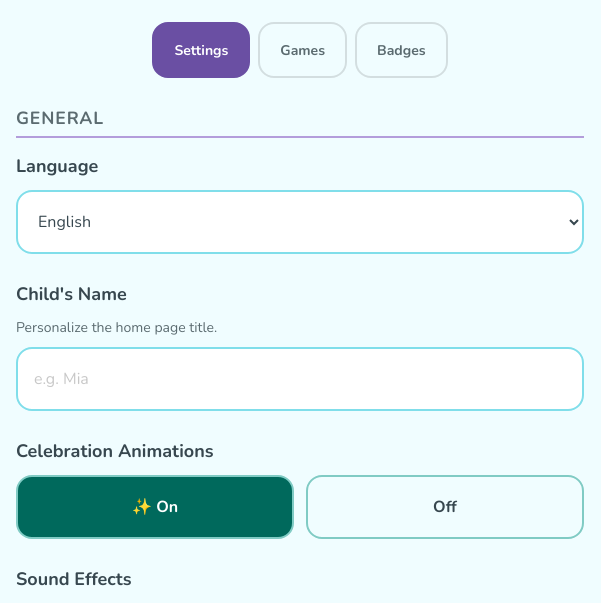
AdminPage › pre-populates tag input with current effective tags
This screenshot has width=601, height=603.
Click the tab "Games" at {"x": 303, "y": 50}, box [258,22,347,78]
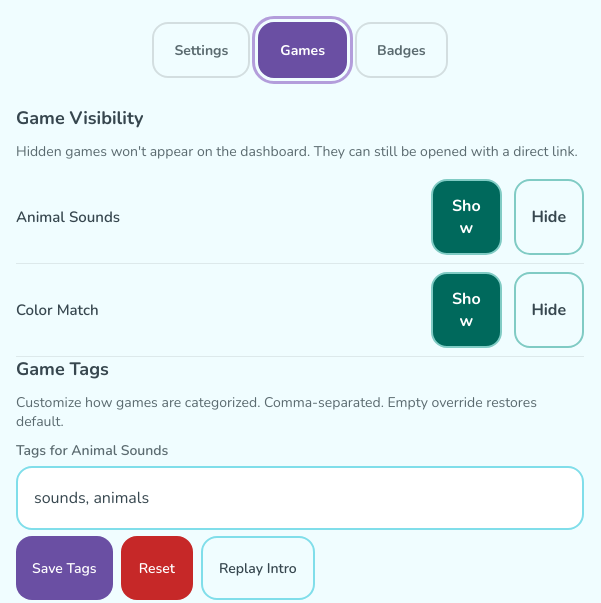
Check: the field labelled "Tags for Animal Sounds" holds "sounds, animals", box [16,466,584,530]
